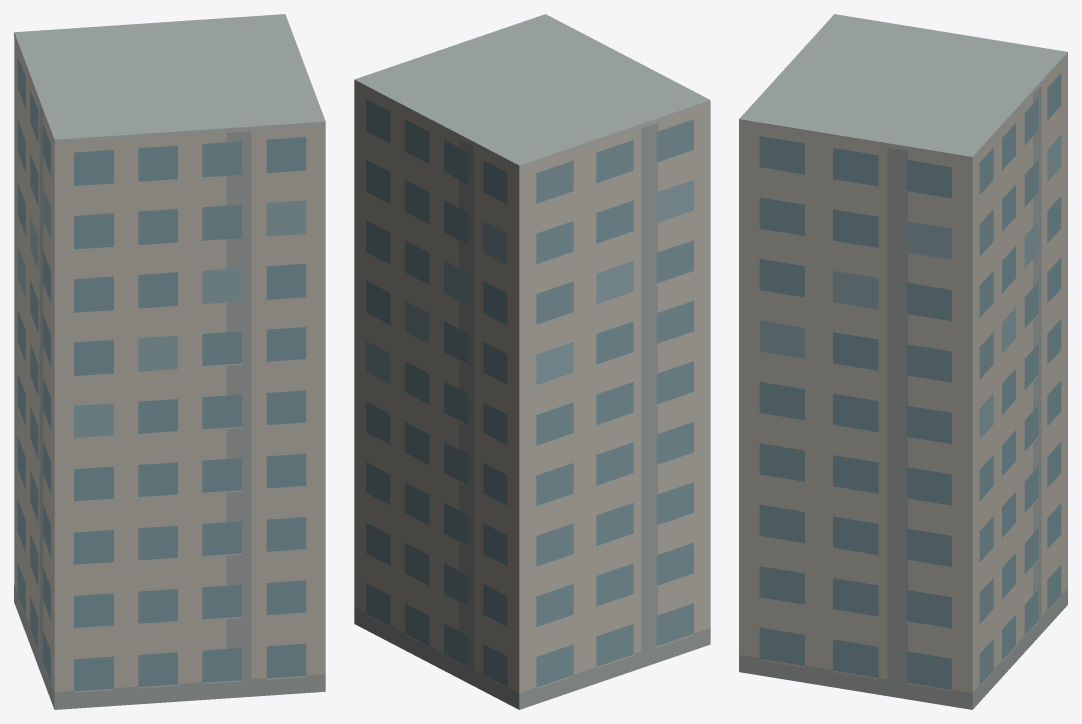
Rendered from residential-8bd27864-f4d7-4c8e-8f40-8034e79215e0.glb.
The picture shows the model from 3 angles, left to right: view 1: azimuth 30°, elevation 25°; view 2: azimuth 150°, elevation 25°; view 3: azimuth 270°, elevation 25°; orthographic projection. The views are drawn at different scales.
Visible parts, largest first — view 1: residential-8bd27864-f4d7-4c8e-8f40-8034e79215e0.tmp; view 2: residential-8bd27864-f4d7-4c8e-8f40-8034e79215e0.tmp; view 3: residential-8bd27864-f4d7-4c8e-8f40-8034e79215e0.tmp.
Part boxes in pixels (x1,y1,x2,y2): residential-8bd27864-f4d7-4c8e-8f40-8034e79215e0.tmp: (14, 14, 325, 709); residential-8bd27864-f4d7-4c8e-8f40-8034e79215e0.tmp: (354, 14, 710, 709); residential-8bd27864-f4d7-4c8e-8f40-8034e79215e0.tmp: (739, 14, 1067, 709).
Bounding box in the file's own units: 16.64 × 30 × 16.17.
